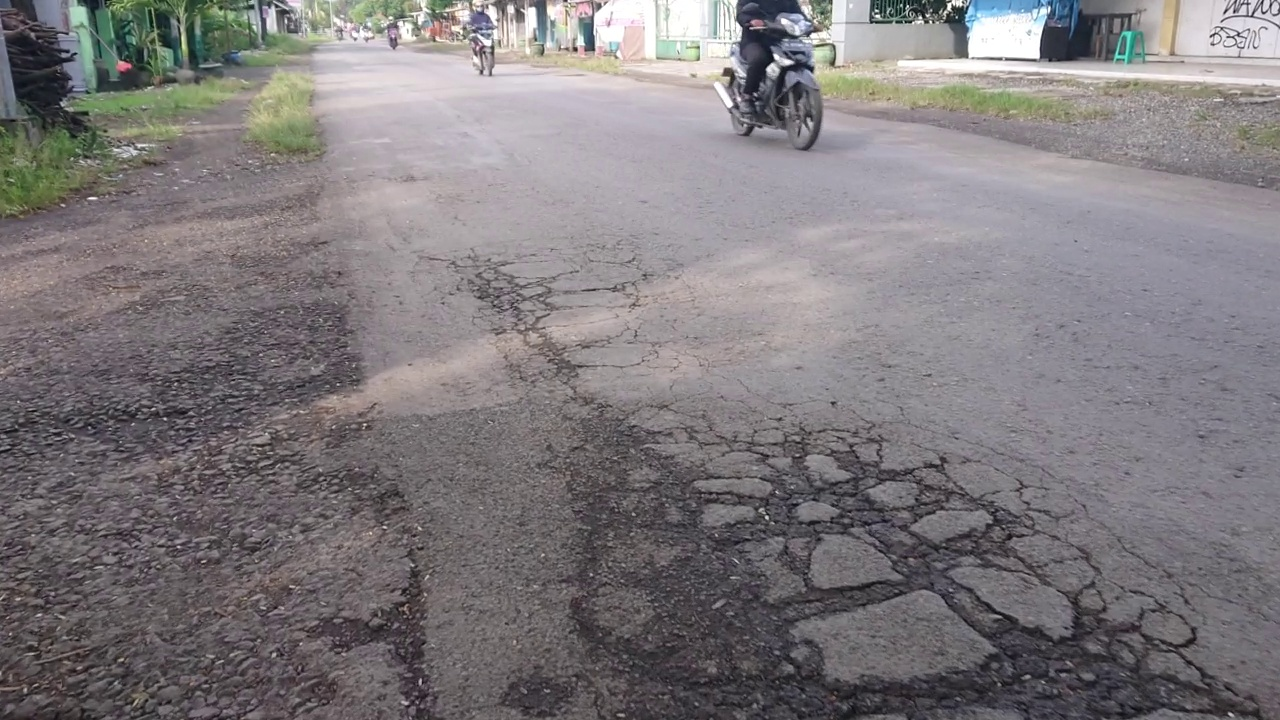Retak: (611, 433, 1196, 720), (466, 267, 659, 407)
